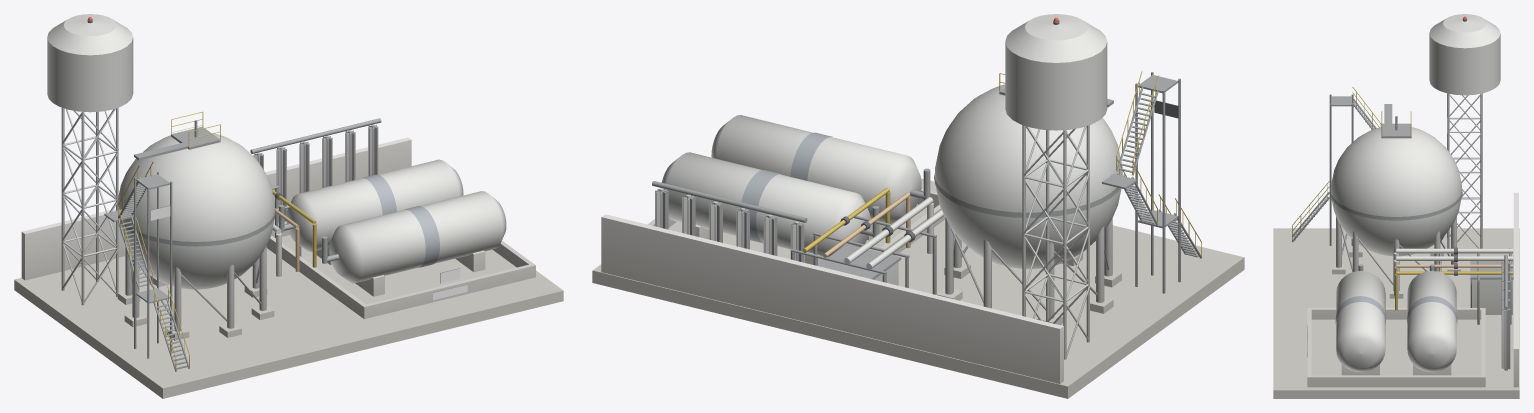
Rendered from fuel.glb.
3 renders of one model, left to right at view 1: azimuth 30°, elevation 25°; view 2: azimuth 150°, elevation 25°; view 3: azimuth 270°, elevation 25°, orthographic. The views are drawn at different scales.
Parts seen in each view (by area): view 1: fuel; view 2: fuel; view 3: fuel.
Part boxes in pixels (box(x1,y1,x2,y2)): fuel: box(14, 14, 563, 398); fuel: box(592, 14, 1244, 398); fuel: box(1273, 14, 1519, 398).
Size of the model in its own units: 28 by 19.13 by 18.
